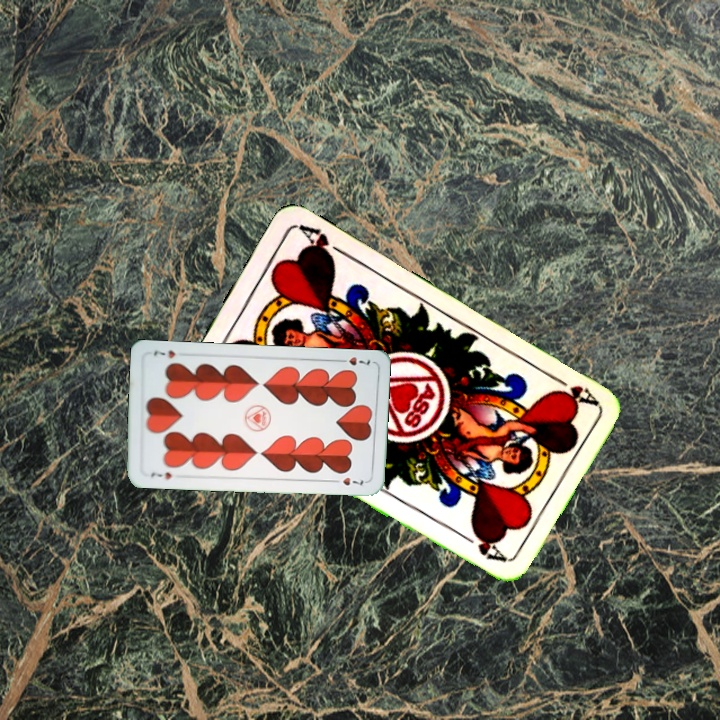H7: (334, 353, 373, 368), (147, 468, 174, 482)
HA: (545, 370, 599, 408)
